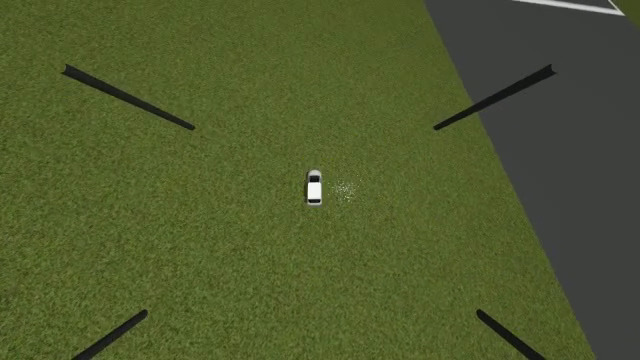Car: (306, 169, 322, 206)
